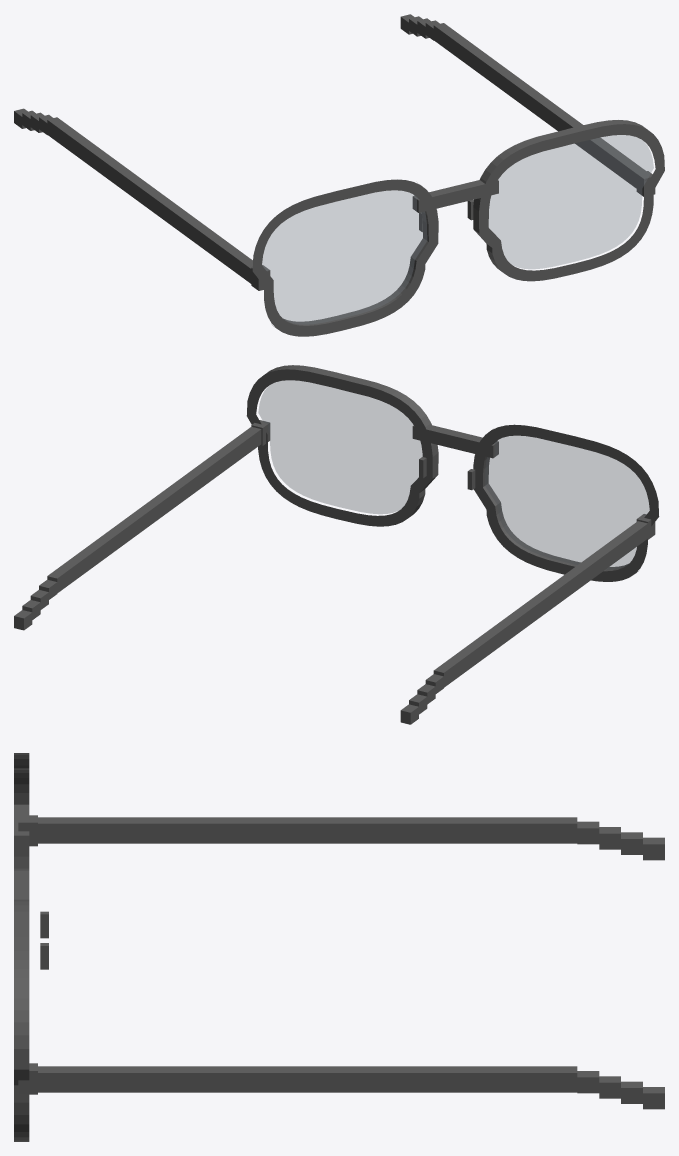
File: p-wayfarer.glb
3 views of the same model, one above another, from view 1: azimuth 30°, elevation 25°; view 2: azimuth 150°, elevation 25°; view 3: azimuth 270°, elevation 25° (orthographic). The views are drawn at different scales.
Parts seen in each view (by area): view 1: Lens, Frame; view 2: Lens, Frame; view 3: Frame.
Boxes of the visible parts, left/top/right/bottom form: Lens: left=262, top=135, right=653, bottom=324; Frame: left=14, top=14, right=664, bottom=336; Lens: left=258, top=380, right=649, bottom=569; Frame: left=14, top=365, right=659, bottom=724; Frame: left=14, top=753, right=664, bottom=1141.
Bounding box in the file's own units: 143 × 46.9 × 148.
